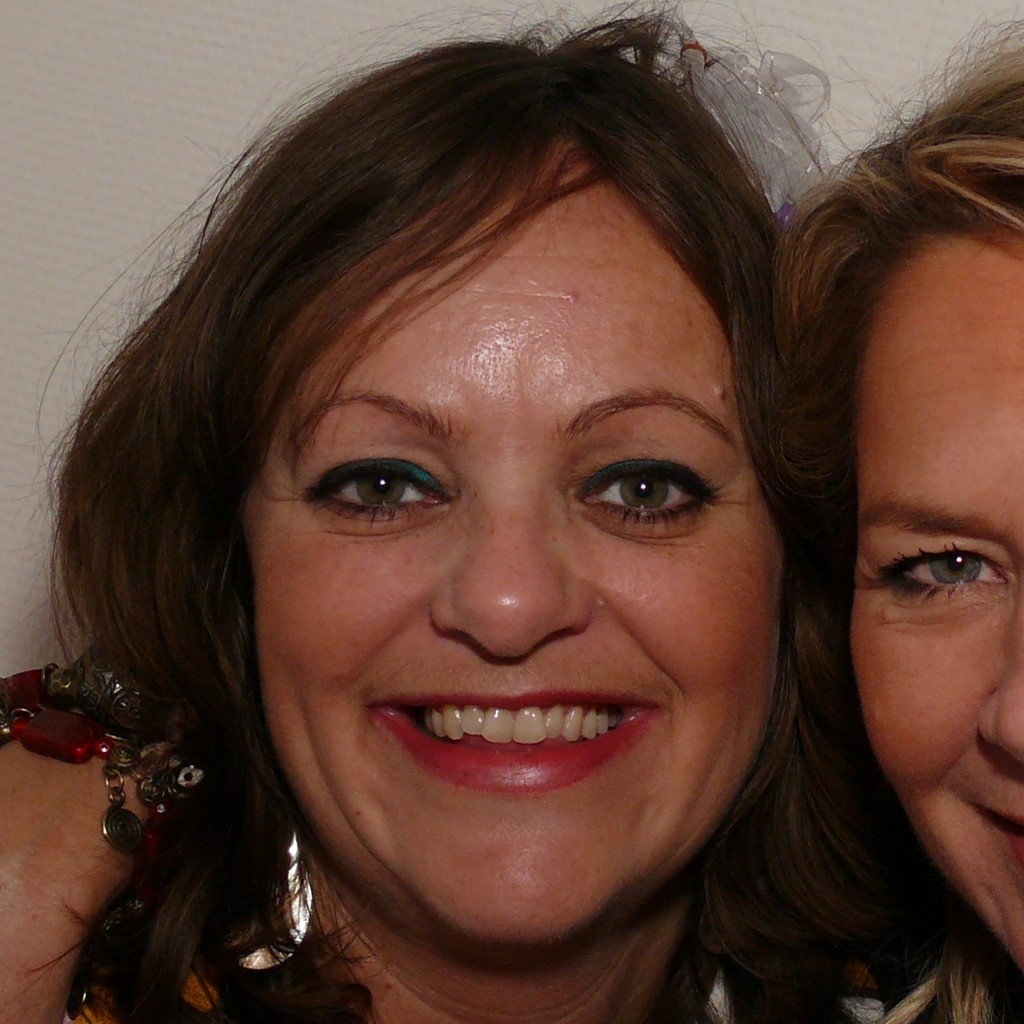sin_mascara: (241, 154, 782, 928)
